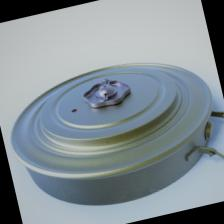TM-46: (0, 35, 224, 224)
